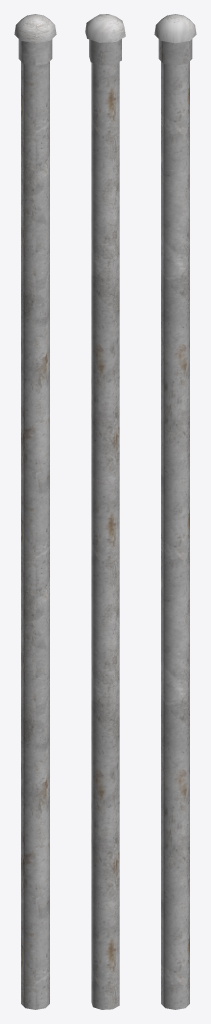
File: ChainlinkFence_TallPost.fbx
The picture shows the model from 3 angles, left to right: view 1: azimuth 90°, elevation 25°; view 2: azimuth 210°, elevation 25°; view 3: azimuth 270°, elevation 25°; orthographic projection.
Visible parts, largest first — view 1: ChainlinkFence_TallPost; view 2: ChainlinkFence_TallPost; view 3: ChainlinkFence_TallPost.
Part boxes in pixels (x1=…): ChainlinkFence_TallPost: x1=14, y1=14, x2=56, y2=1009; ChainlinkFence_TallPost: x1=85, y1=14, x2=125, y2=1009; ChainlinkFence_TallPost: x1=154, y1=14, x2=196, y2=1009.
Bounding box in the file's own units: 10.99 × 284 × 10.99.
